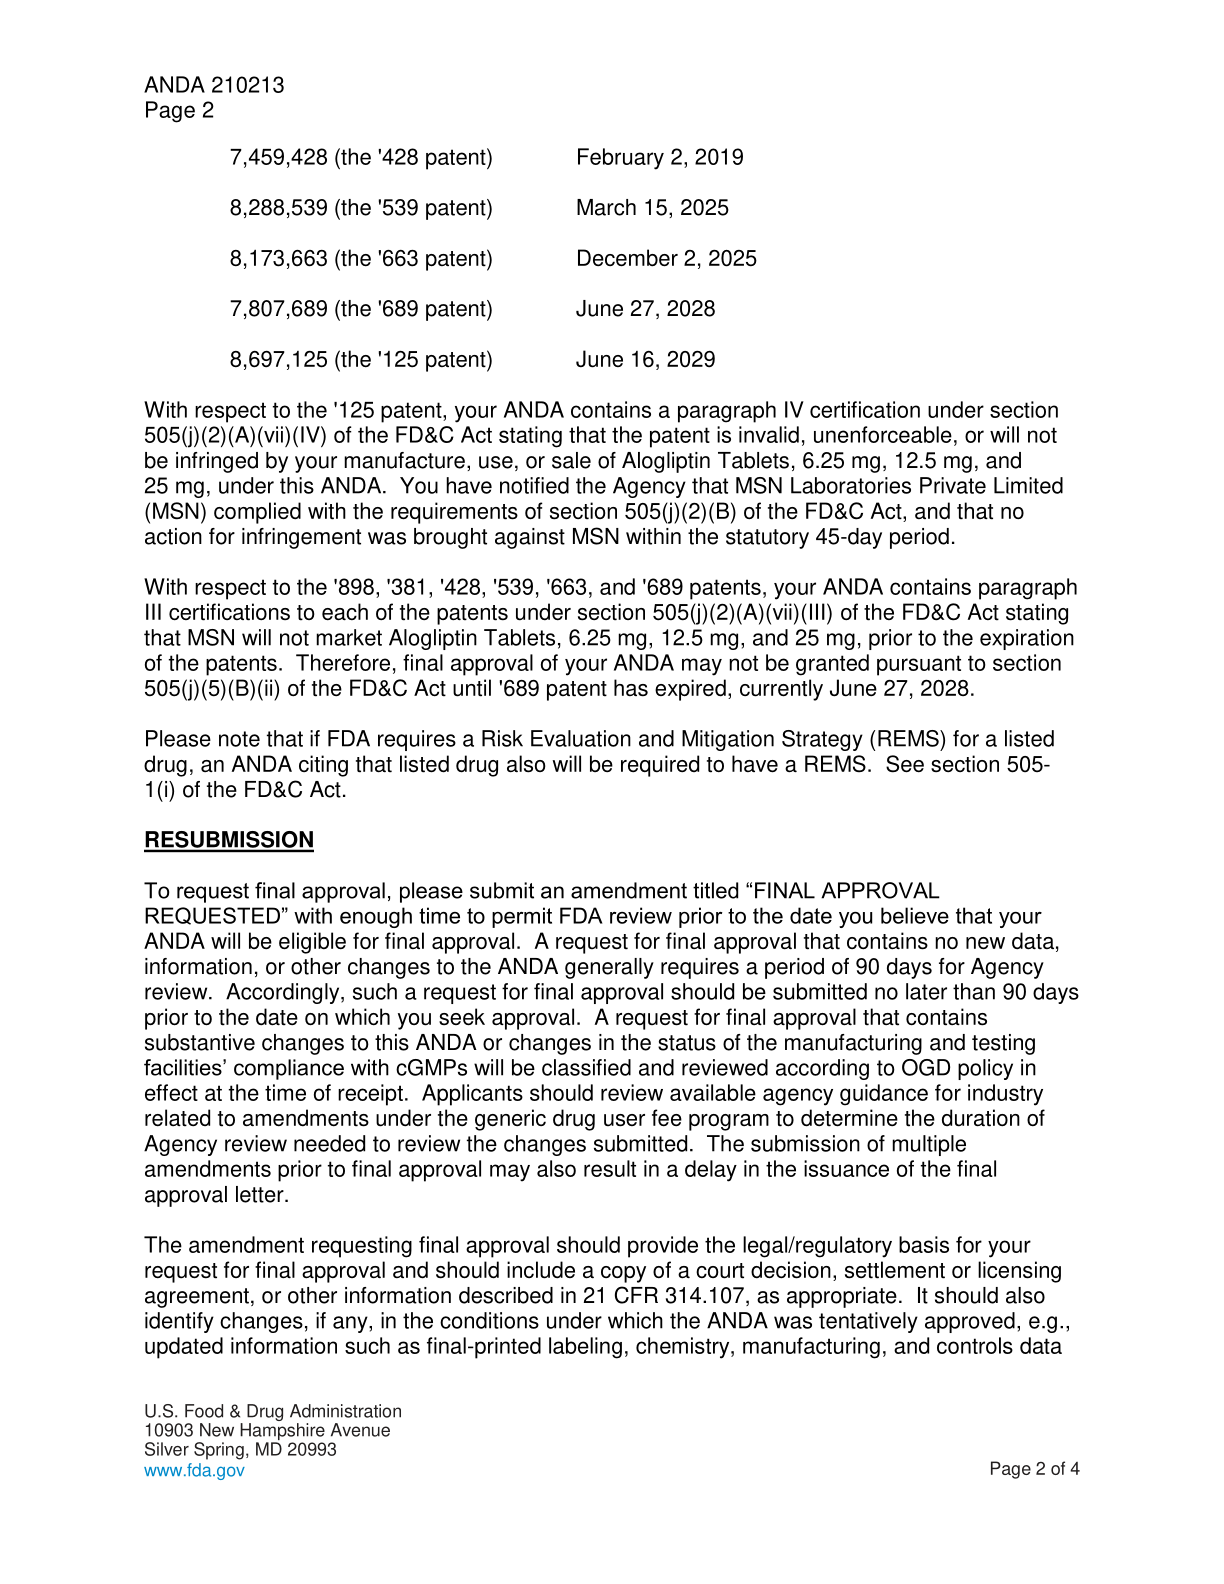nolines: (228, 140, 759, 372)
